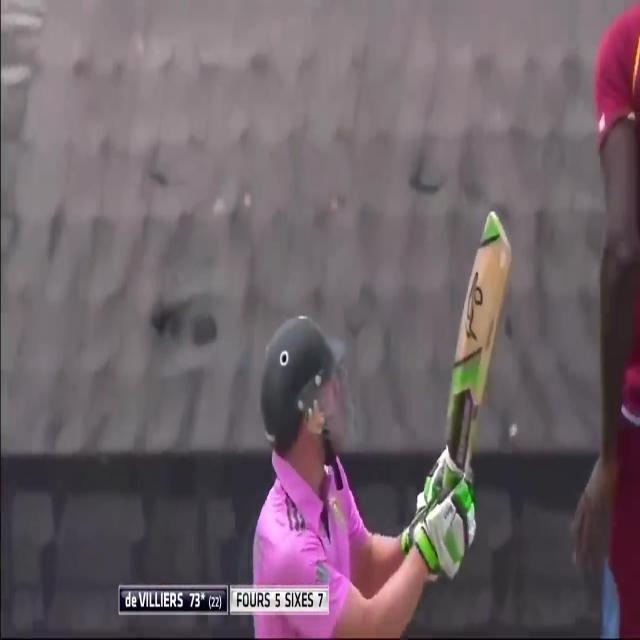Ball: (242, 321, 480, 637)
